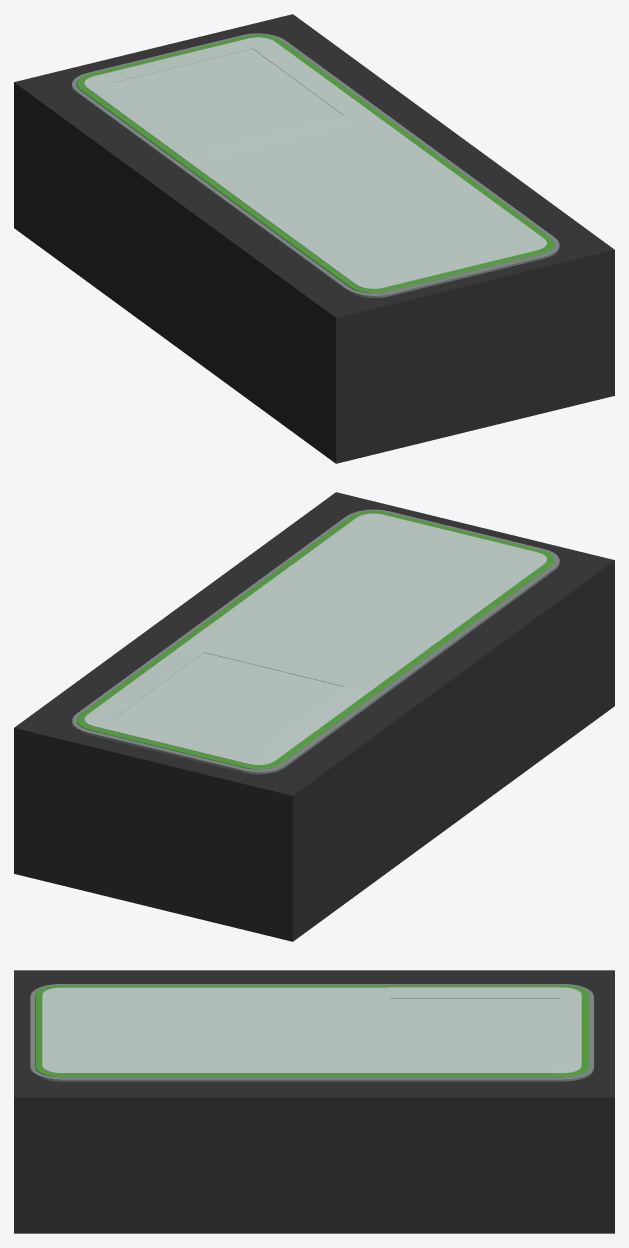
File: Vereda.fbx
3 views of the same model, one above another, from view 1: azimuth 30°, elevation 25°; view 2: azimuth 150°, elevation 25°; view 3: azimuth 270°, elevation 25° (orthographic). The views are drawn at different scales.
Visible parts, largest first — view 1: Cube.001, Superficie.016; view 2: Cube.001, Superficie.016; view 3: Cube.001, Superficie.016.
Boxes of the visible parts, x1,y1,x2,y2 form: Cube.001: [14, 14, 614, 463]; Superficie.016: [72, 33, 559, 297]; Cube.001: [14, 492, 614, 941]; Superficie.016: [72, 509, 559, 774]; Cube.001: [14, 970, 614, 1233]; Superficie.016: [30, 984, 593, 1081].
Size of the model in its own units: 2000 by 1029 by 4000.
